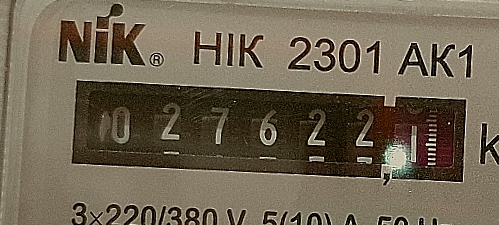0: (107, 101, 134, 145)
1: (404, 120, 422, 164)
2: (302, 105, 330, 147), (158, 98, 183, 142), (352, 105, 377, 148)
6: (255, 105, 280, 147)
7: (206, 103, 231, 148)
screen: (58, 64, 481, 194)
